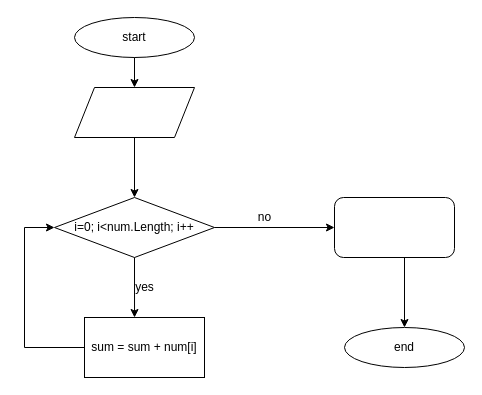
The diagram is 482 pixels wide and 395 high, and some of its shapes have lost their labels. Each missing label, with the centre of its shape:
num sum=0: (134,112)
Print: sum: (394,227)
